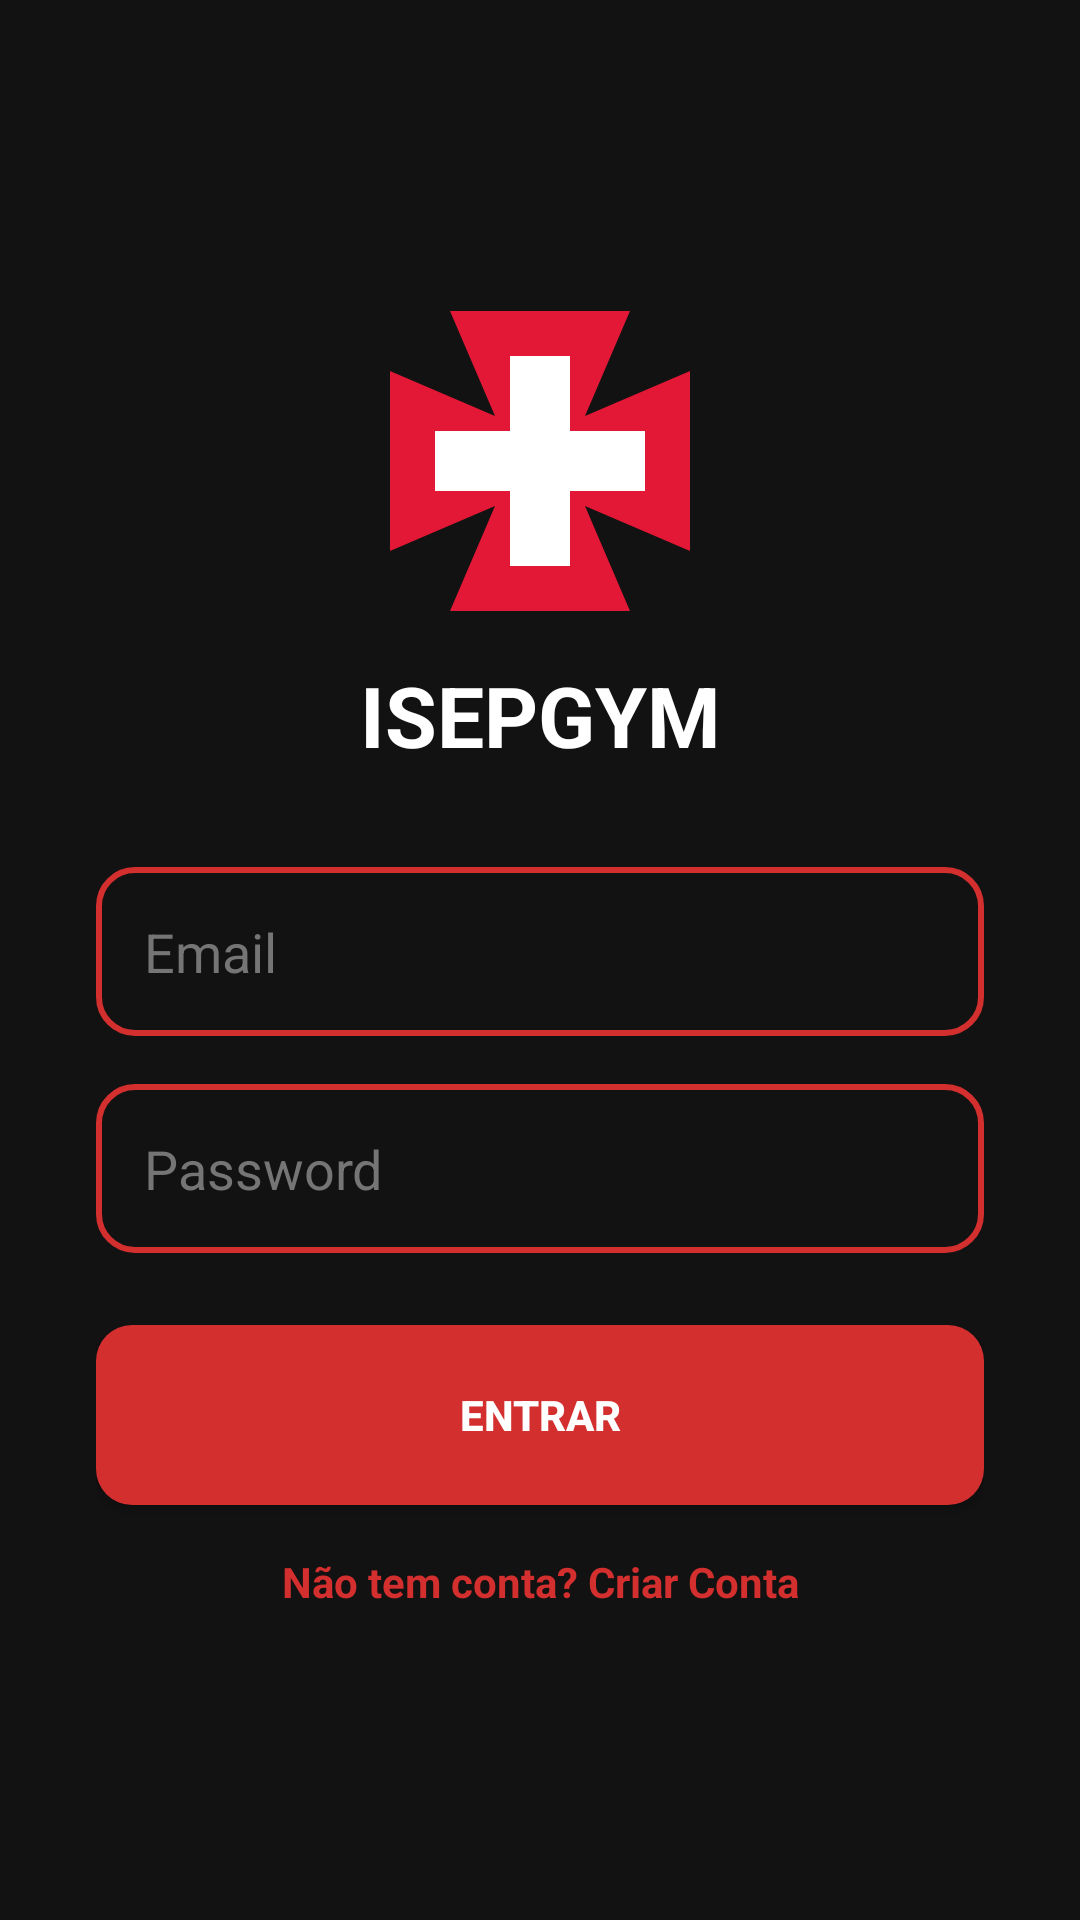

Icon click points for this 1080 × 1920 phone screenshot, format (x=x, y=y):
cruz cristo: (x=540, y=461)
